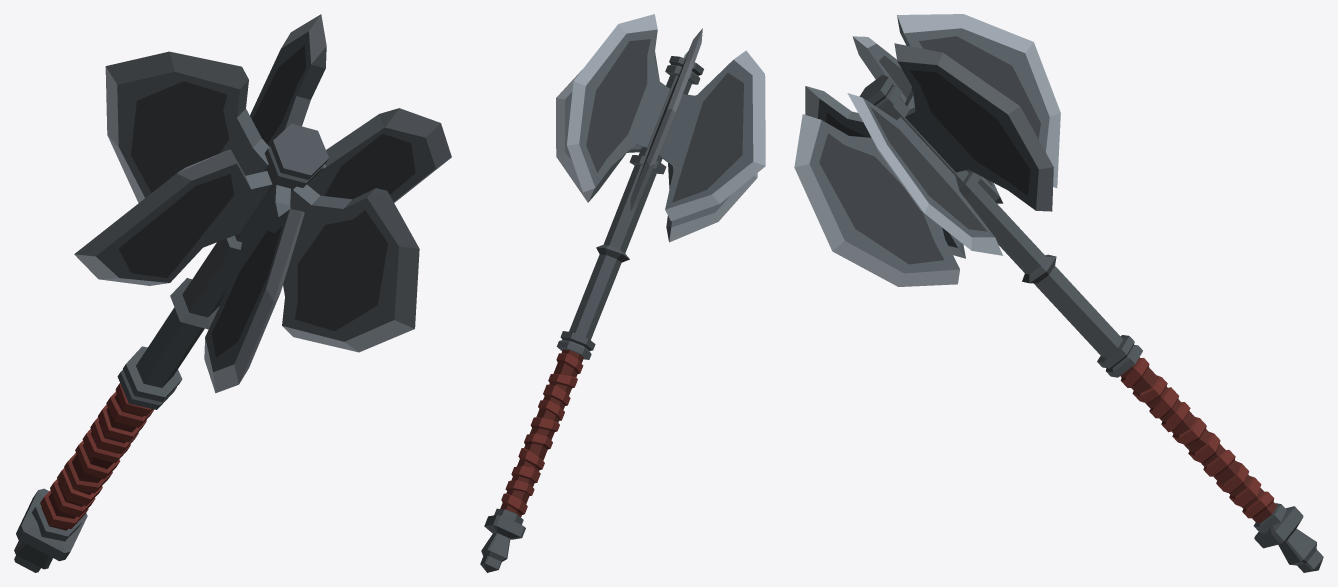
Rendered from fk-axe-03.glb.
The picture shows the model from 3 angles, left to right: view 1: azimuth 30°, elevation 25°; view 2: azimuth 150°, elevation 25°; view 3: azimuth 270°, elevation 25°; orthographic projection. The views are drawn at different scales.
Parts seen in each view (by area): view 1: fk-axe-03; view 2: fk-axe-03; view 3: fk-axe-03.
Part boxes in pixels (left/top/right/bottom): fk-axe-03: left=14, top=14, right=451, bottom=572; fk-axe-03: left=480, top=14, right=765, bottom=572; fk-axe-03: left=794, top=14, right=1323, bottom=572.
Bounding box in the file's own units: 0.637 × 1.22 × 1.09.
1 material, 1 textured.
